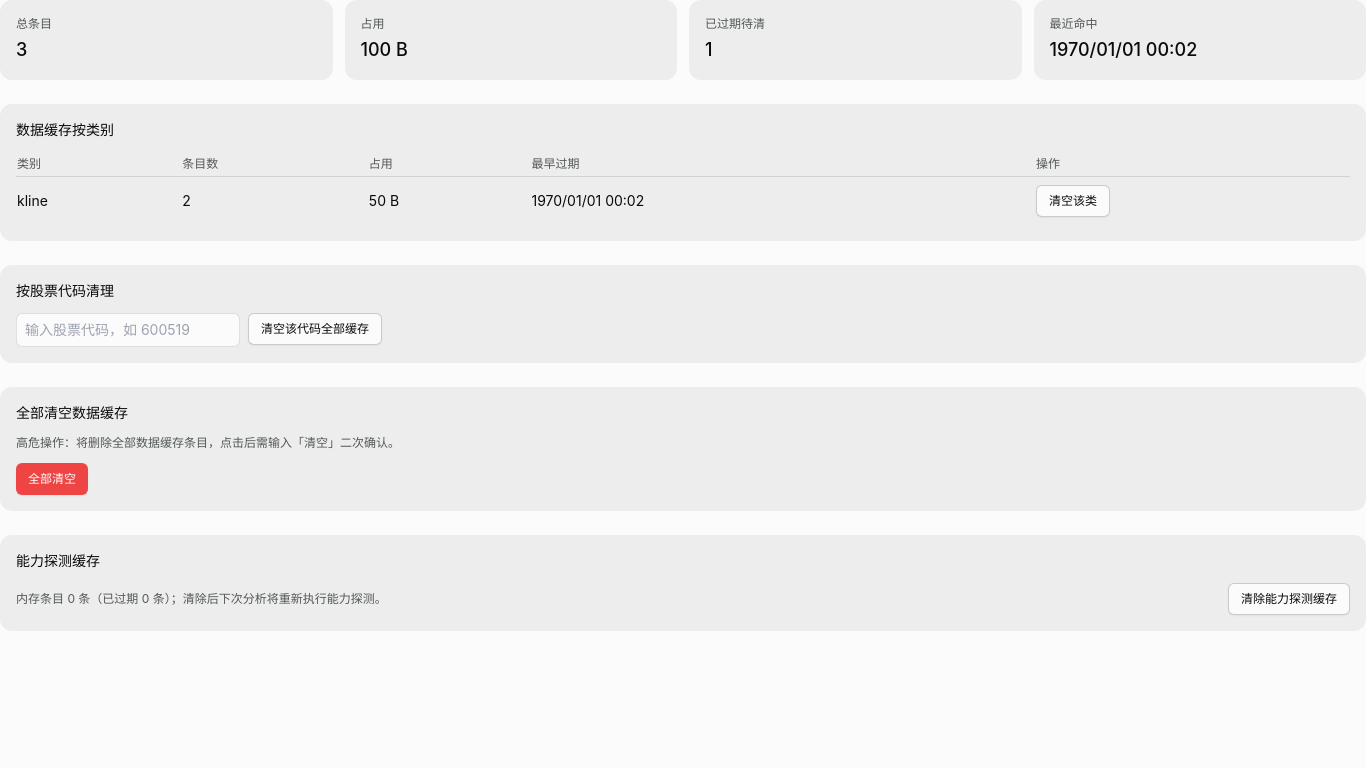
Test: CachePane 缓存管理分区 › 全部清空需输入「清空」确认：输入不符不请求，正确后调 scope=all confirm=true
Expected: the text "kline" is shown, x1=16 y1=176 x2=181 y2=225
Click the button with test id "cache-clear-all". click: (52, 479)
box: x1=16 y1=463 x2=88 y2=495
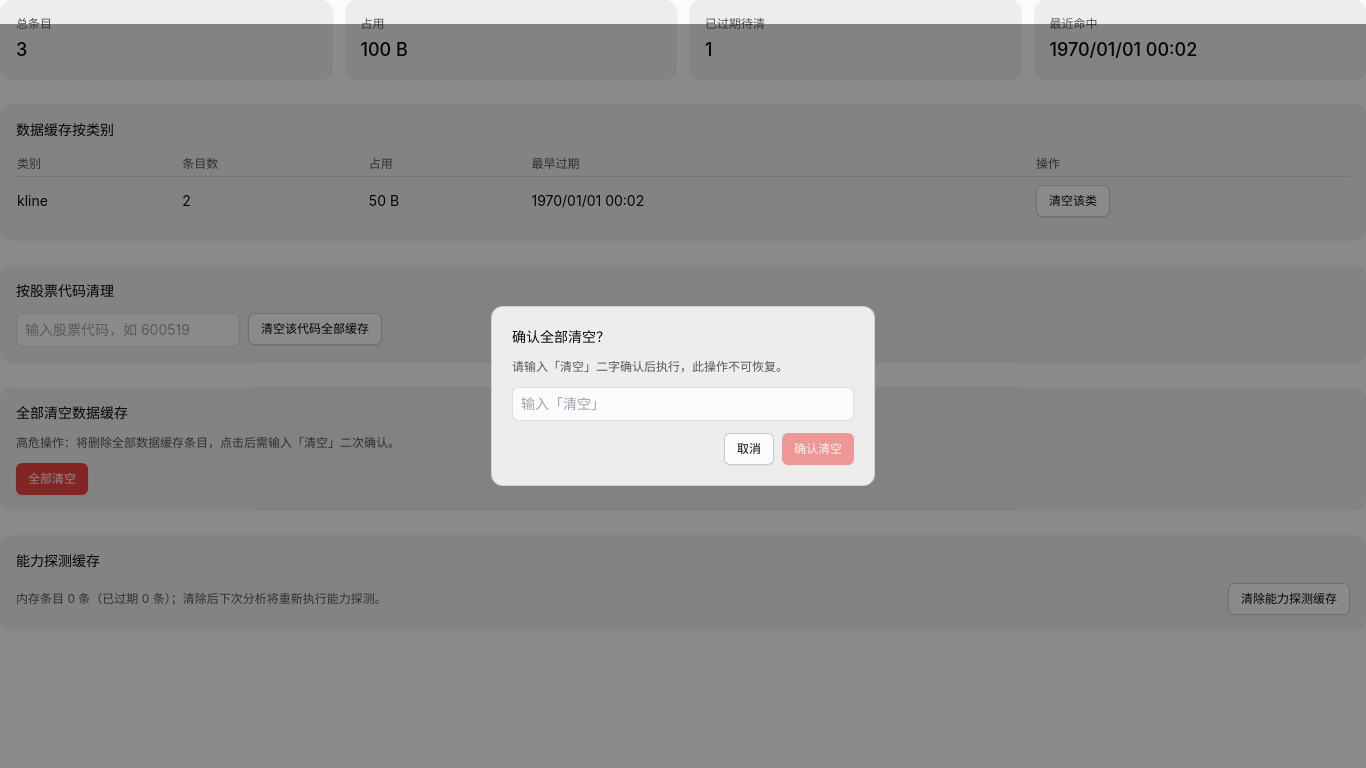
Now the element with test id "cache-clear-all-confirm" is shown
Now the button with test id "cache-clear-all-submit" is disabled, box x1=782 y1=433 x2=854 y2=465
// 输入错误文本仍不可用
Type "空" into the field with test id "cache-clear-all-input". click: (683, 404)
box: x1=512 y1=387 x2=854 y2=421
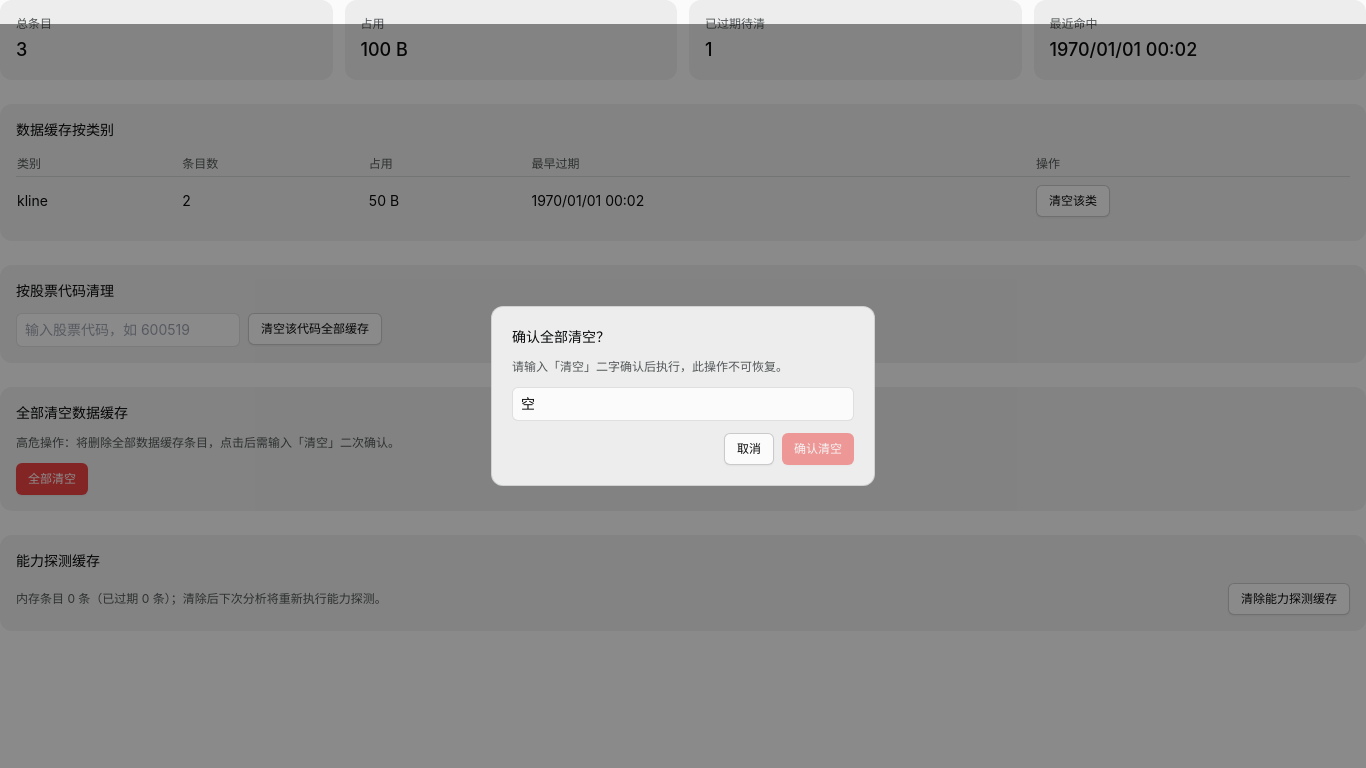
Now the button with test id "cache-clear-all-submit" is disabled, box x1=782 y1=433 x2=854 y2=465
// 输入「清空」后可用，提交
Replace the text in the field with test id "cache-clear-all-input" with "清空". click: (683, 404)
box: x1=512 y1=387 x2=854 y2=421
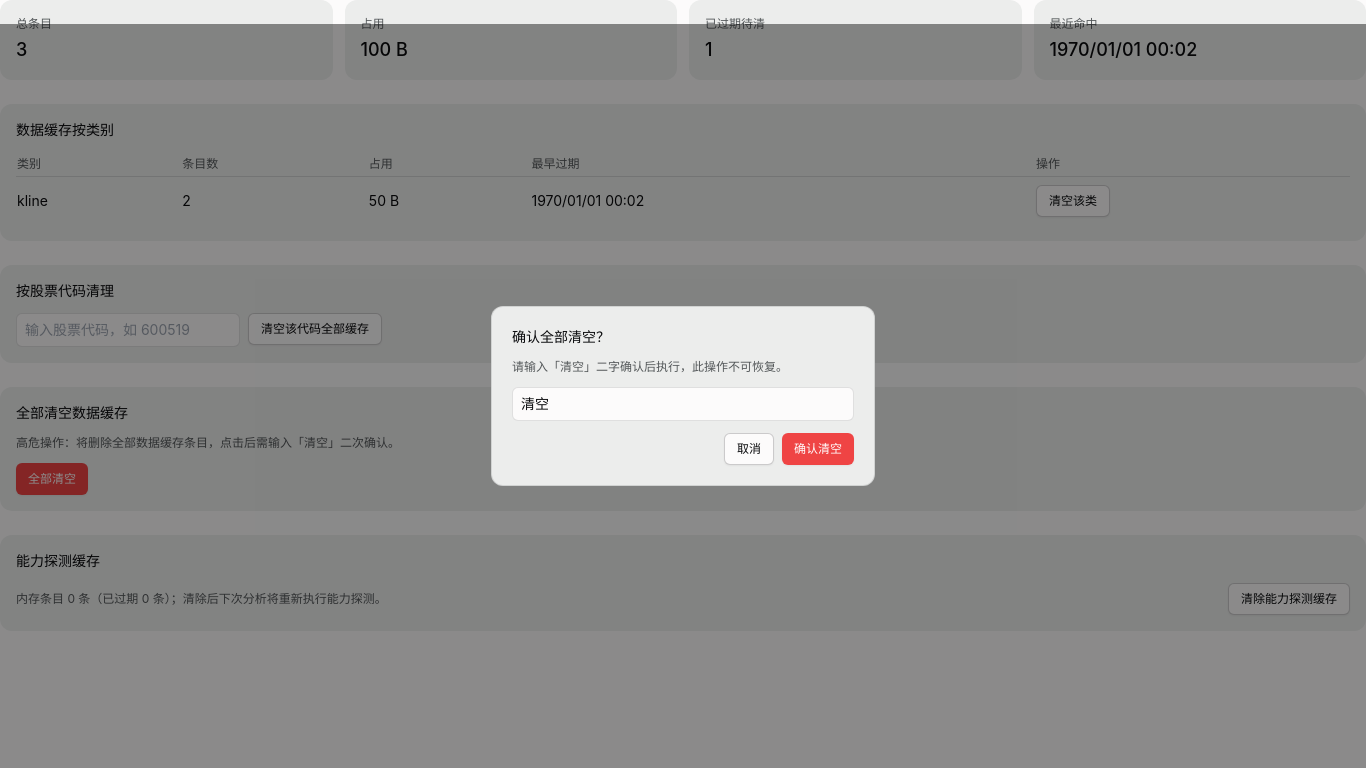
Now the button with test id "cache-clear-all-submit" is enabled
Click the button with test id "cache-clear-all-submit". click: (818, 449)
box: x1=782 y1=433 x2=854 y2=465
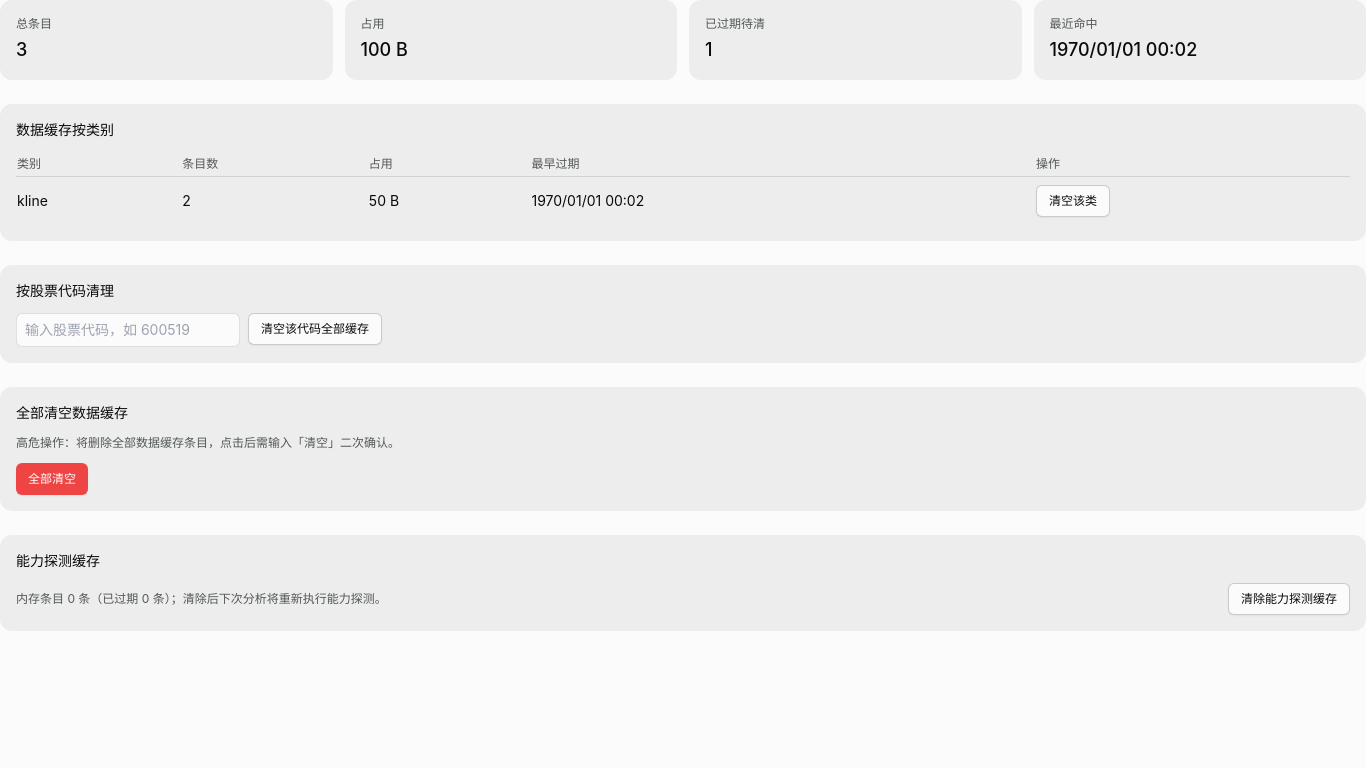
Now the element with test id "cache-clear-all-confirm" is gone
